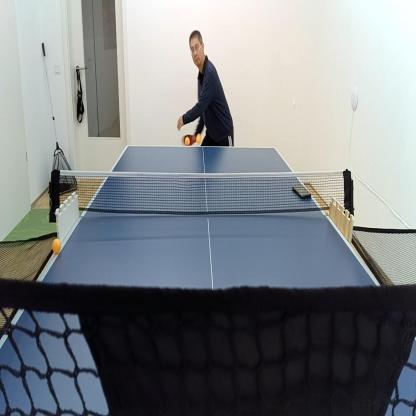Ball: (51, 237, 62, 256), (195, 131, 202, 146), (290, 98, 298, 110), (184, 135, 191, 147)
